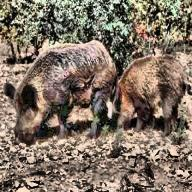boar: (10, 36, 121, 145), (113, 53, 192, 138)
